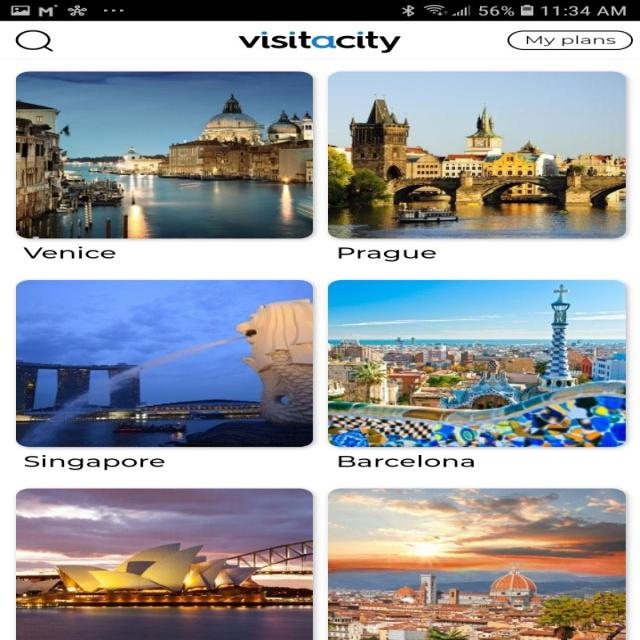Icon: (15, 30, 53, 52)
Image: (327, 280, 625, 447), (327, 71, 625, 238), (16, 280, 313, 447), (16, 71, 313, 238), (327, 488, 625, 640), (16, 488, 313, 640), (237, 31, 401, 53)
Text: (23, 454, 165, 470), (338, 454, 474, 467), (338, 247, 436, 261), (22, 246, 116, 258)
TextButton: (507, 30, 633, 50)
